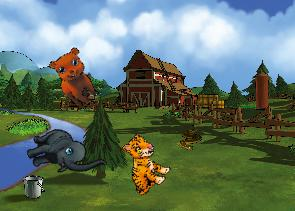bear: (42, 42, 111, 112)
elephant: (21, 114, 107, 193)
tiger: (107, 130, 177, 200)
